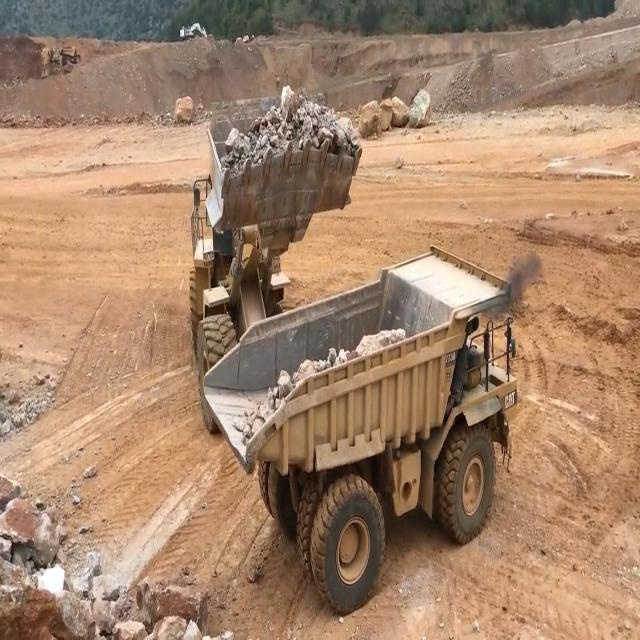Camion volquete: (199, 239, 523, 619)
Excavadora: (180, 21, 207, 41)
pala cargadora: (186, 80, 364, 442)
